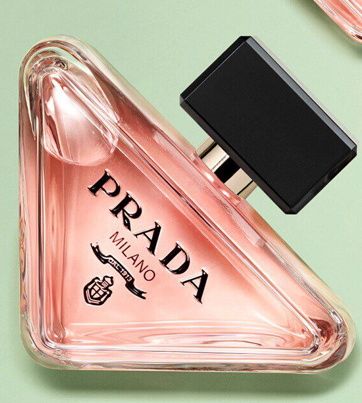prada_paradoxe: (12, 20, 353, 390)
